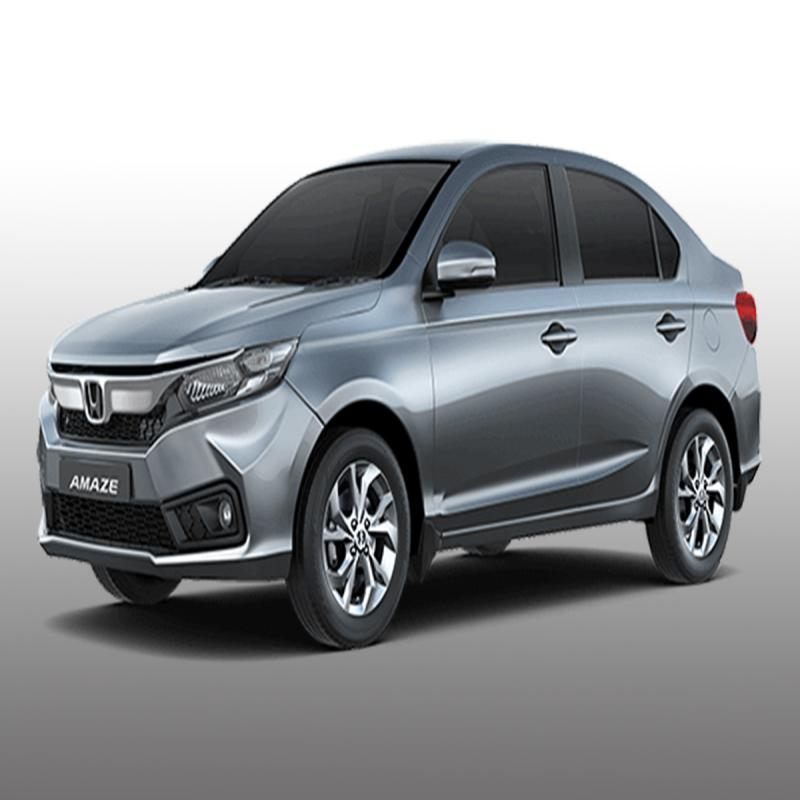car: (27, 135, 783, 654)
